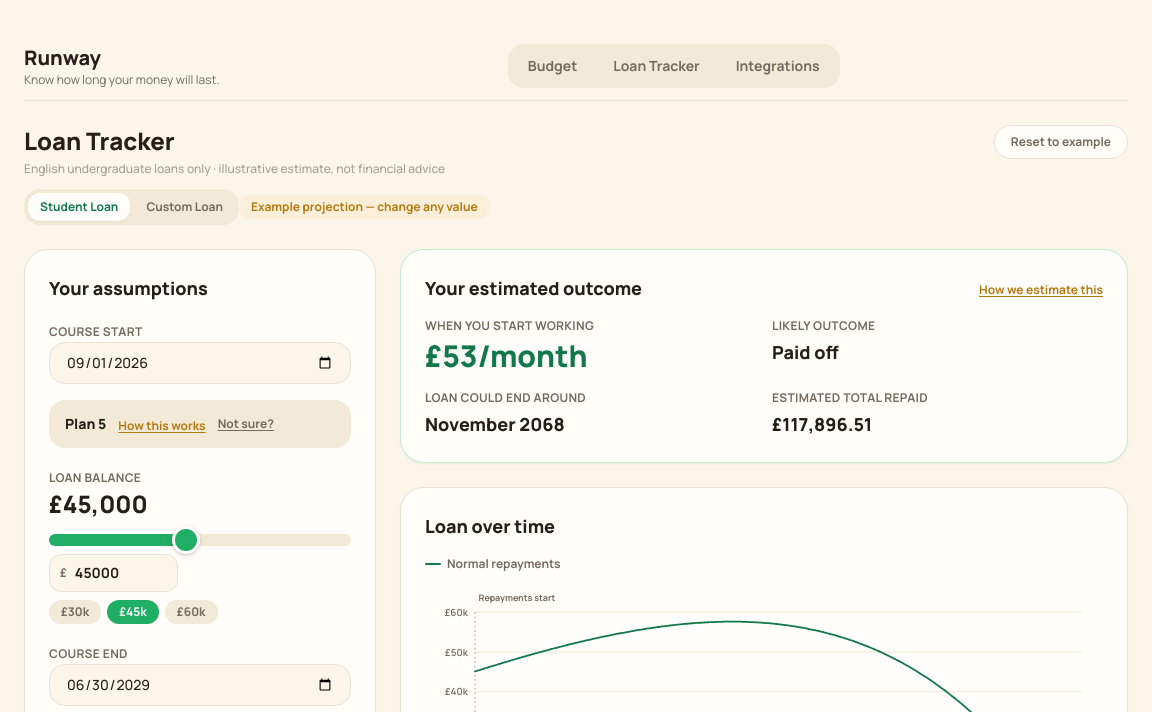
Test: LoanTrackerShell - How this works disclosures › keeps 'How this works' near the repayment plan closed by default, then opens it
This screenshot has width=1152, height=712.
Expected: the text "Why Plan 5?" is not shown
Click the button "How this works": (162, 426) [118,418,206,434]
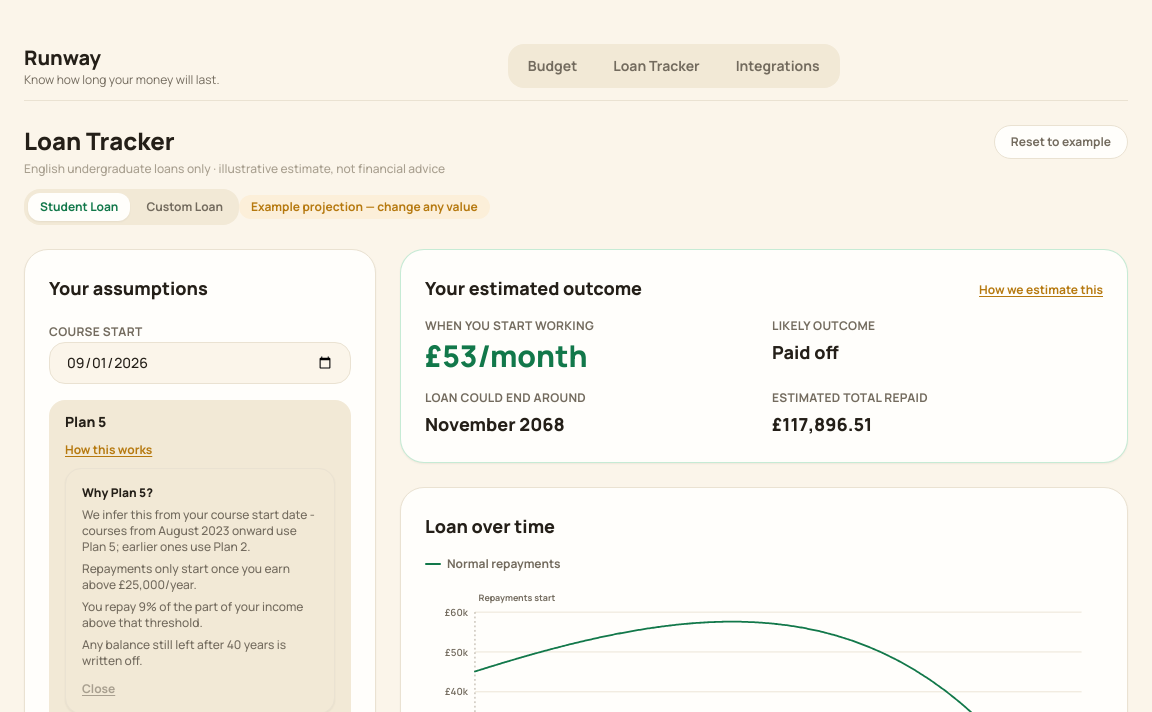
Result: the text "Why Plan 5?" is shown at [82,484,153,501]
